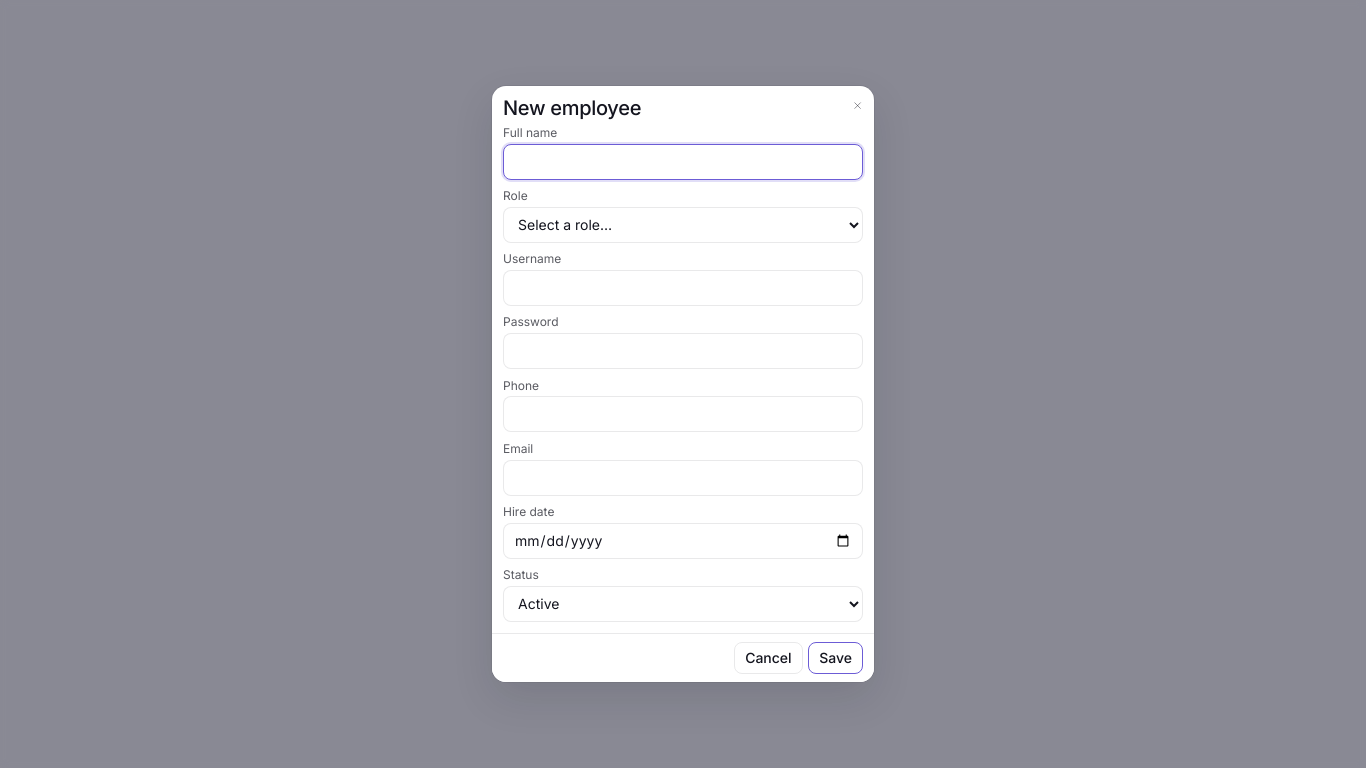
it: EmployeeFormDialog › requires full name, role, username, hire date, and (on create) password
Click the button "Save".
click(836, 658)  # box [808, 642, 863, 674]
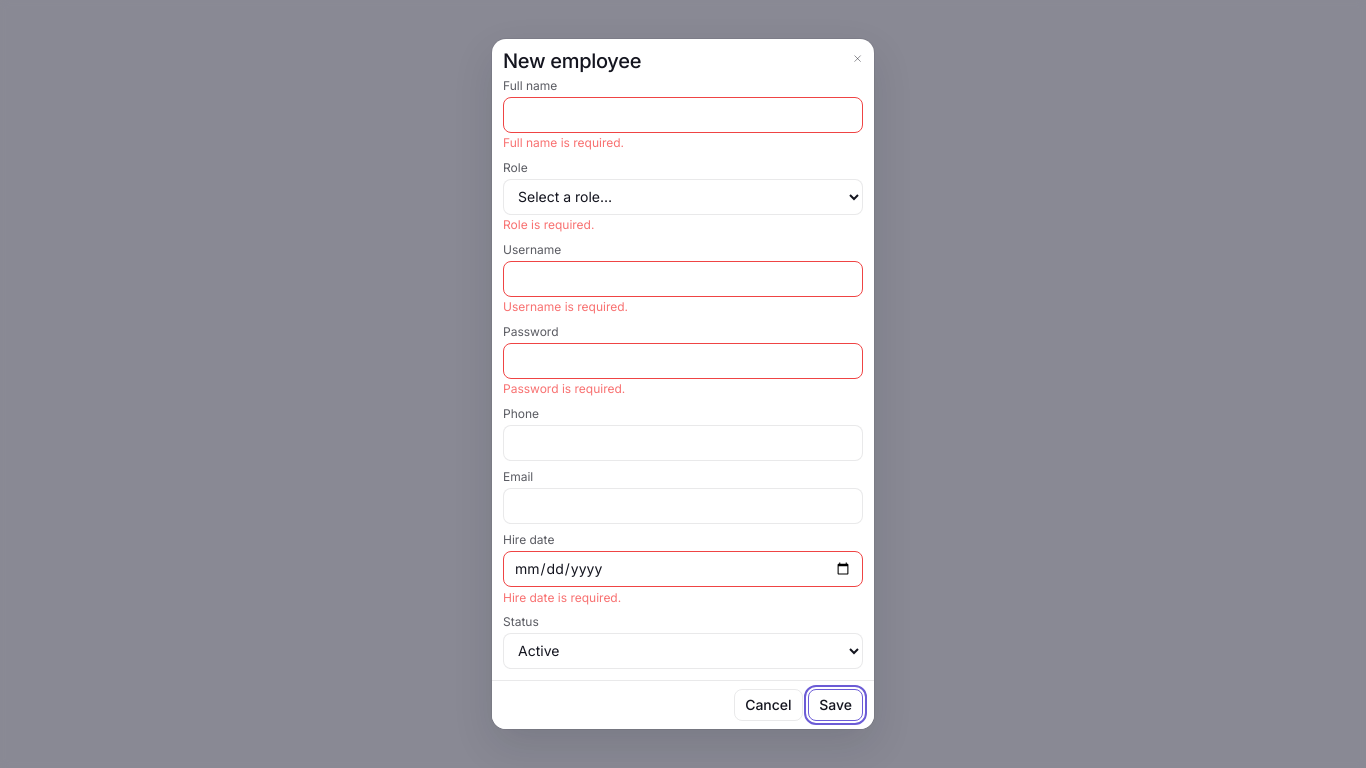
Result: the text "Full name is required." is shown at [503, 135, 624, 150]
Result: the text "Role is required." is shown at [503, 217, 594, 232]
Result: the text "Username is required." is shown at [503, 299, 628, 314]
